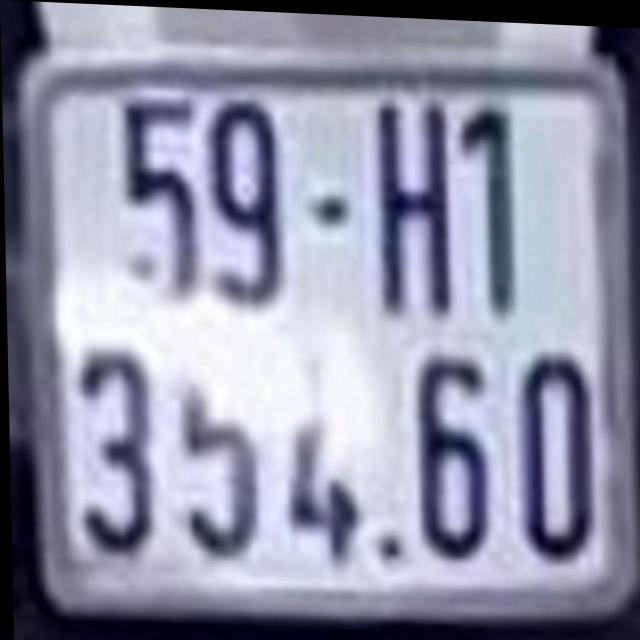0: (517, 337, 589, 560)
1: (465, 106, 521, 319)
3: (77, 347, 156, 559)
4: (286, 358, 357, 562)
5: (174, 342, 260, 560), (122, 90, 196, 307)
6: (405, 349, 494, 555)
9: (205, 96, 282, 306)
H: (373, 96, 436, 282)
